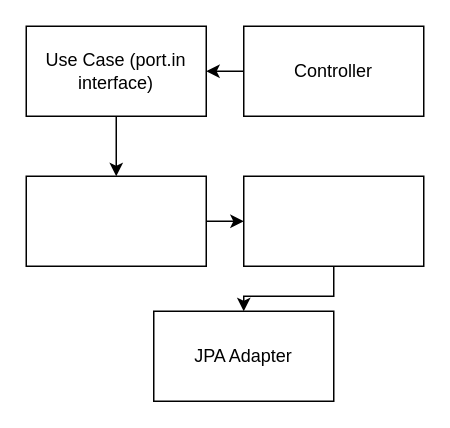
Some shapes in this 450 by 428 pixel diagram are drawn without their labels. Each missing label, with the box of its shape:
Port (port.out interface): (242, 175, 424, 266)
Service: (25, 175, 206, 266)
